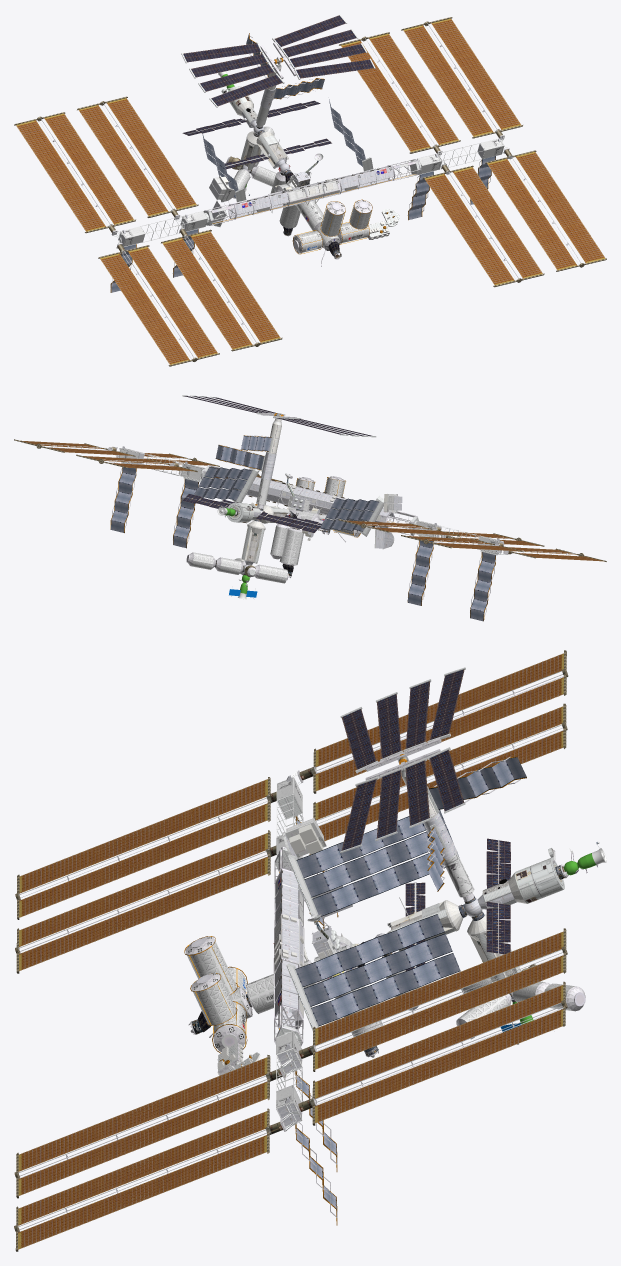
The model's file is ISS.glb.
3 renders of one model, top to bottom at view 1: azimuth 30°, elevation 25°; view 2: azimuth 150°, elevation 25°; view 3: azimuth 270°, elevation 25°, orthographic. The views are drawn at different scales.
Visible parts, largest first — view 1: iss_issbso, iss_issbs0, iss_isssol, iss_issmod, iss_isspan, iss_issrad, iss_isscov, iss_issb3_, iss_metalc, iss_issco0, iss_issp2_, iss_issdis (+1 smaller); view 2: iss_issrad, iss_issmod, iss_isspan, iss_issbso, iss_issb3_, iss_isscov, iss_isssol, iss_issbs0, iss_metalc, iss_issco0, iss_issp2_, iss_issdis (+3 smaller); view 3: iss_issbso, iss_issbs0, iss_issrad, iss_isssol, iss_issmod, iss_isscov, iss_isspan, iss_issb3_, iss_metalc, iss_issp2_, iss_issco0, iss_issdis (+2 smaller).
Part boxes in pixels (x1=…): iss_issbso: x1=16, y1=18, x2=605, y2=364; iss_issbs0: x1=39, y1=54, x2=581, y2=329; iss_isssol: x1=182, y1=15, x2=373, y2=169; iss_issmod: x1=39, y1=23, x2=581, y2=359; iss_isspan: x1=185, y1=102, x2=371, y2=252; iss_issrad: x1=111, y1=33, x2=495, y2=292; iss_isscov: x1=113, y1=14, x2=508, y2=246; iss_issb3_: x1=118, y1=56, x2=500, y2=245; iss_metalc: x1=14, y1=17, x2=606, y2=366; iss_issco0: x1=121, y1=105, x2=504, y2=246; iss_issp2_: x1=222, y1=62, x2=397, y2=239; iss_issdis: x1=110, y1=33, x2=495, y2=292; iss_issrad: x1=111, y1=435, x2=495, y2=621; iss_issmod: x1=41, y1=413, x2=581, y2=616; iss_isspan: x1=185, y1=478, x2=355, y2=583; iss_issbso: x1=20, y1=440, x2=603, y2=561; iss_issb3_: x1=122, y1=413, x2=503, y2=573; iss_isscov: x1=114, y1=395, x2=506, y2=575; iss_isssol: x1=183, y1=396, x2=371, y2=532; iss_issbs0: x1=39, y1=441, x2=581, y2=560; iss_metalc: x1=14, y1=414, x2=606, y2=577; iss_issco0: x1=118, y1=448, x2=501, y2=553; iss_issp2_: x1=230, y1=418, x2=387, y2=563; iss_issdis: x1=110, y1=413, x2=495, y2=620; iss_issbso: x1=18, y1=653, x2=563, y2=1249; iss_issbs0: x1=101, y1=685, x2=481, y2=1216; iss_issrad: x1=295, y1=757, x2=526, y2=1216; iss_isssol: x1=341, y1=669, x2=510, y2=970; iss_issmod: x1=17, y1=671, x2=585, y2=1229; iss_isscov: x1=214, y1=667, x2=556, y2=1130; iss_isspan: x1=186, y1=839, x2=576, y2=1046; iss_issb3_: x1=275, y1=753, x2=514, y2=1126; iss_metalc: x1=14, y1=650, x2=568, y2=1251; iss_issp2_: x1=217, y1=769, x2=526, y2=1075; iss_issco0: x1=276, y1=777, x2=474, y2=1117; iss_issdis: x1=184, y1=754, x2=526, y2=1225.
Size of the model in its own units: 14.39 by 5.92 by 9.56.
Materials: 46 (39 with a texture image).
